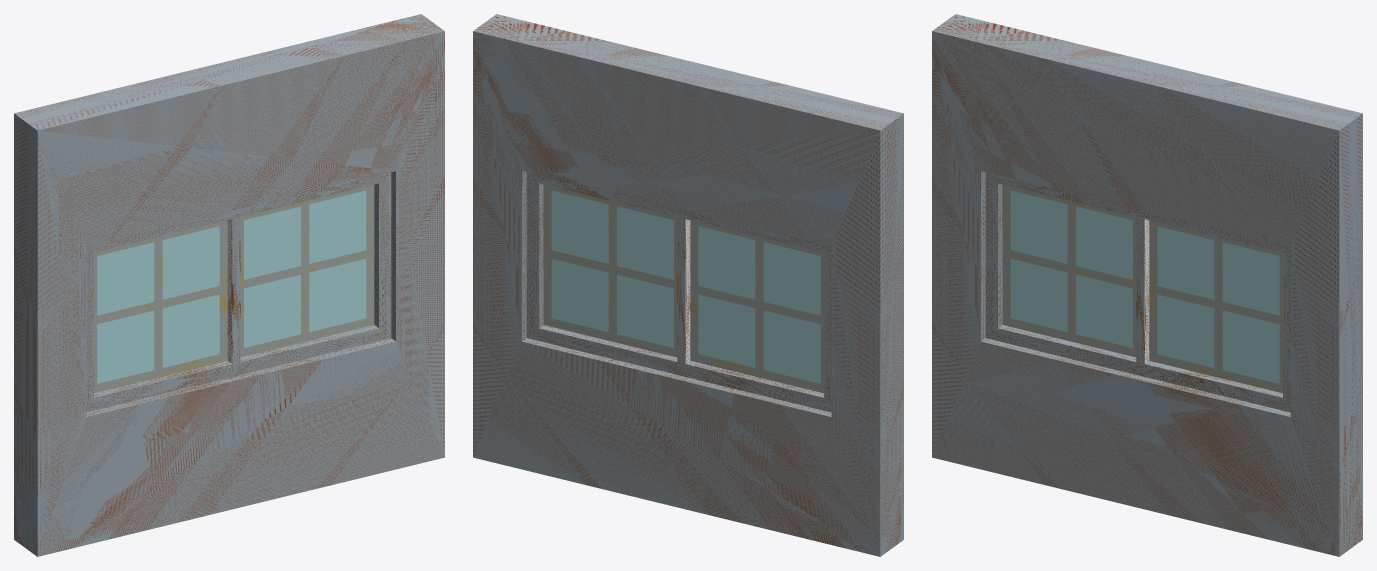
Rendered from wall_window_2.fbx.
3 views of the same model, side by side, from view 1: azimuth 30°, elevation 25°; view 2: azimuth 150°, elevation 25°; view 3: azimuth 330°, elevation 25° (orthographic).
Visible parts, largest first — view 1: Mesh9_window_2_1 Model, Mesh1_Group1 window_2_1 Model, Mesh3_Group3 window_2_1 Model, Mesh2_Group2 window_2_1 Model, Mesh4_Group4 window_2_1 Model, Mesh6_Group6 window_2_1 Model, Mesh7_Group7 window_2_1 Model, Mesh5_Group5 window_2_1 Model, Mesh8_Group8 window_2_1 Model; view 2: Mesh9_window_2_1 Model, Mesh1_Group1 window_2_1 Model, Mesh3_Group3 window_2_1 Model, Mesh2_Group2 window_2_1 Model, Mesh4_Group4 window_2_1 Model, Mesh6_Group6 window_2_1 Model, Mesh7_Group7 window_2_1 Model, Mesh5_Group5 window_2_1 Model, Mesh8_Group8 window_2_1 Model; view 3: Mesh9_window_2_1 Model, Mesh5_Group5 window_2_1 Model, Mesh7_Group7 window_2_1 Model, Mesh6_Group6 window_2_1 Model, Mesh8_Group8 window_2_1 Model, Mesh4_Group4 window_2_1 Model, Mesh1_Group1 window_2_1 Model, Mesh3_Group3 window_2_1 Model, Mesh2_Group2 window_2_1 Model.
Part boxes in pixels (x1,y1,x2,y2): Mesh9_window_2_1 Model: (14, 14, 444, 556); Mesh1_Group1 window_2_1 Model: (97, 310, 154, 383); Mesh3_Group3 window_2_1 Model: (162, 226, 219, 299); Mesh2_Group2 window_2_1 Model: (162, 294, 219, 367); Mesh4_Group4 window_2_1 Model: (97, 242, 154, 315); Mesh6_Group6 window_2_1 Model: (309, 190, 366, 263); Mesh7_Group7 window_2_1 Model: (309, 259, 366, 331); Mesh5_Group5 window_2_1 Model: (244, 206, 300, 279); Mesh8_Group8 window_2_1 Model: (244, 274, 300, 347); Mesh9_window_2_1 Model: (473, 14, 903, 556); Mesh1_Group1 window_2_1 Model: (763, 310, 820, 383); Mesh3_Group3 window_2_1 Model: (698, 226, 755, 299); Mesh2_Group2 window_2_1 Model: (698, 294, 755, 367); Mesh4_Group4 window_2_1 Model: (763, 242, 820, 315); Mesh6_Group6 window_2_1 Model: (551, 190, 608, 263); Mesh7_Group7 window_2_1 Model: (551, 259, 608, 331); Mesh5_Group5 window_2_1 Model: (617, 206, 673, 279); Mesh8_Group8 window_2_1 Model: (617, 274, 673, 347); Mesh9_window_2_1 Model: (932, 14, 1362, 556); Mesh5_Group5 window_2_1 Model: (1157, 226, 1214, 299); Mesh7_Group7 window_2_1 Model: (1222, 310, 1279, 383); Mesh6_Group6 window_2_1 Model: (1222, 242, 1279, 315); Mesh8_Group8 window_2_1 Model: (1157, 294, 1214, 367); Mesh4_Group4 window_2_1 Model: (1010, 190, 1067, 263); Mesh1_Group1 window_2_1 Model: (1010, 259, 1067, 331); Mesh3_Group3 window_2_1 Model: (1076, 206, 1132, 279); Mesh2_Group2 window_2_1 Model: (1076, 274, 1132, 347).
Bounding box in the file's own units: 1 × 1 × 0.1.
